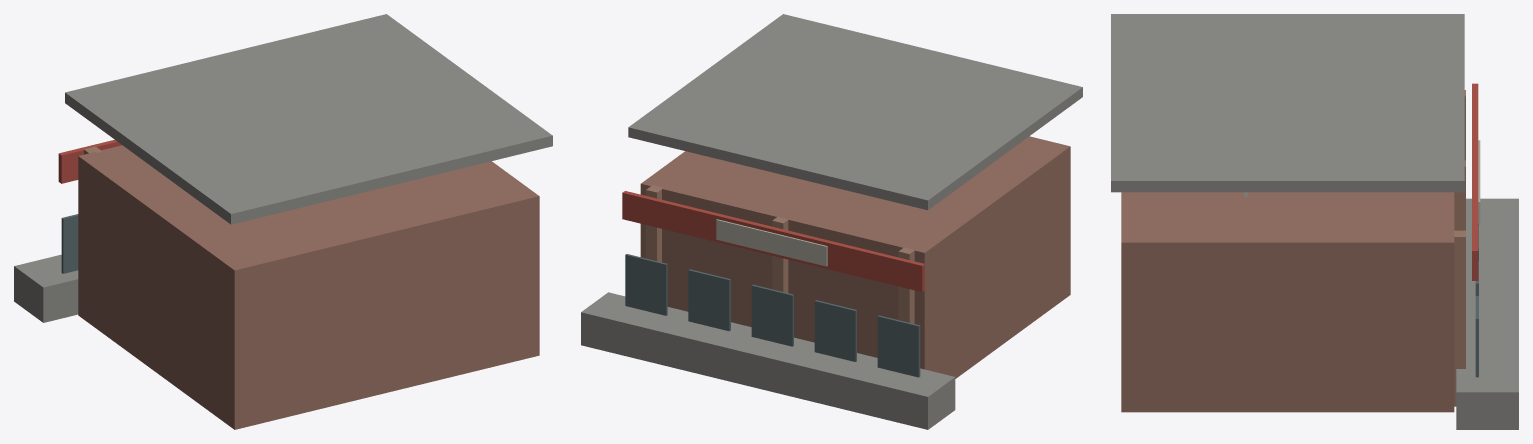
File: b_kinoteatr.glb
3 renders of one model, left to right at view 1: azimuth 30°, elevation 25°; view 2: azimuth 150°, elevation 25°; view 3: azimuth 270°, elevation 25°, orthographic. The views are drawn at different scales.
Parts seen in each view (by area): view 1: walls; view 2: walls, col_0, col_1, col_2; view 3: walls, col_2, col_1.
Part boxes in pixels (bbox=[...]): walls: bbox=[14, 14, 552, 429]; walls: bbox=[581, 14, 1082, 429]; col_0: bbox=[898, 247, 914, 323]; col_1: bbox=[772, 217, 788, 292]; col_2: bbox=[646, 185, 662, 262]; walls: bbox=[1111, 14, 1518, 429]; col_2: bbox=[1454, 230, 1465, 406]; col_1: bbox=[1454, 160, 1465, 230].
Size of the model in its own units: 22 by 12.5 by 19.6.
